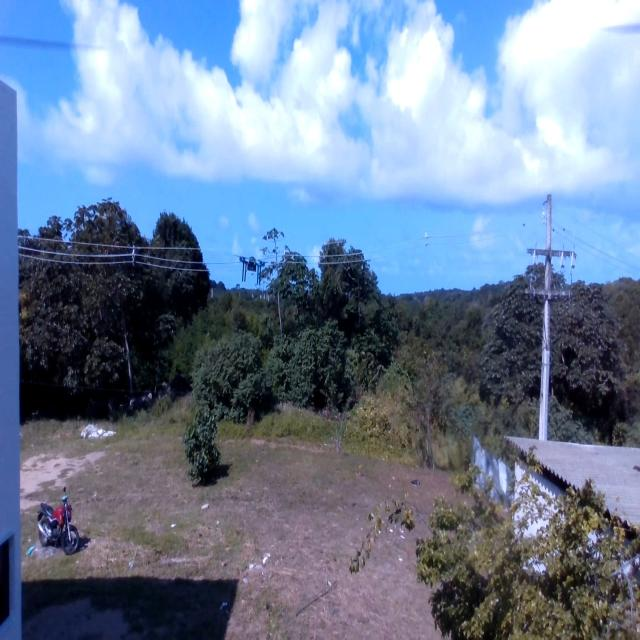-uav-: (238, 250, 264, 295)
